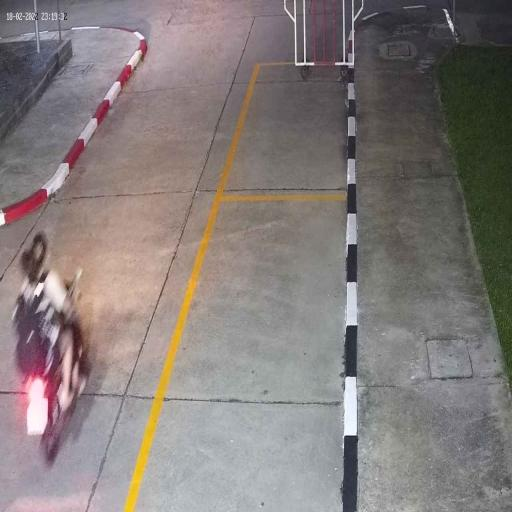motorcycle: (26, 322, 86, 464)
